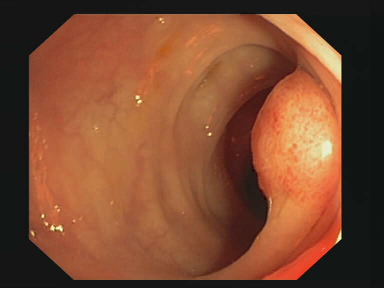polyp: (239, 73, 347, 208)
